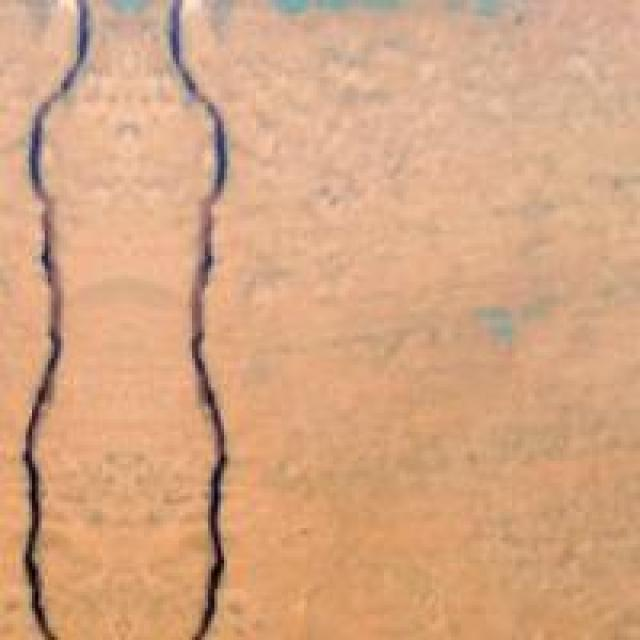Crack: (3, 0, 285, 637)
